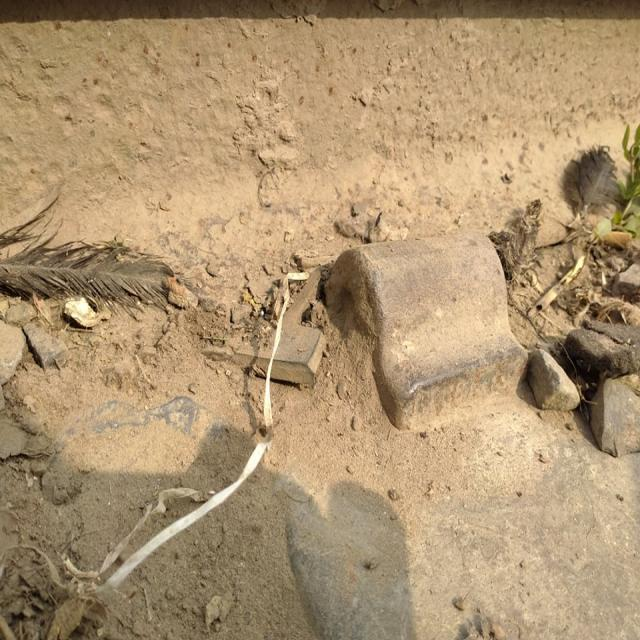Missing Fastener: (249, 176, 604, 554)
